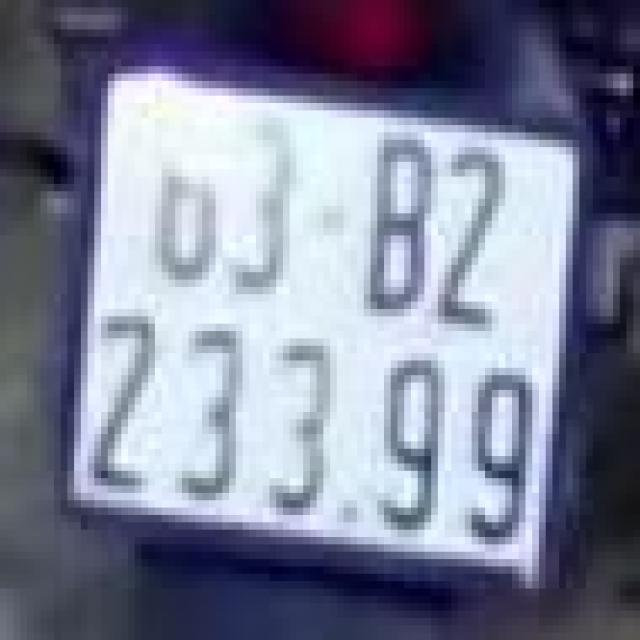2: (441, 144, 509, 328), (98, 301, 158, 493)
3: (172, 313, 246, 497), (226, 110, 293, 294), (273, 331, 340, 515)
6: (158, 100, 219, 284)
9: (374, 350, 448, 534), (468, 368, 536, 544)
B: (367, 128, 428, 312)
